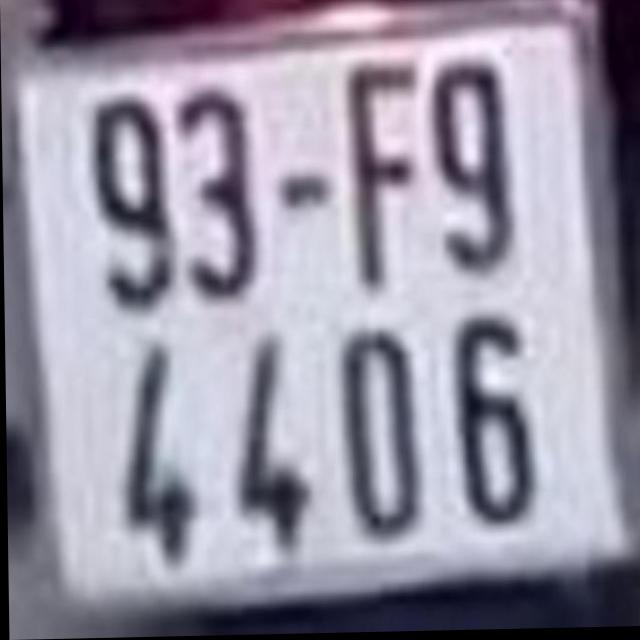0: (336, 326, 426, 535)
3: (177, 86, 255, 300)
4: (238, 330, 319, 548), (118, 342, 191, 560)
6: (451, 313, 532, 525)
9: (437, 53, 518, 273), (92, 89, 172, 305)
F: (344, 65, 423, 298)
